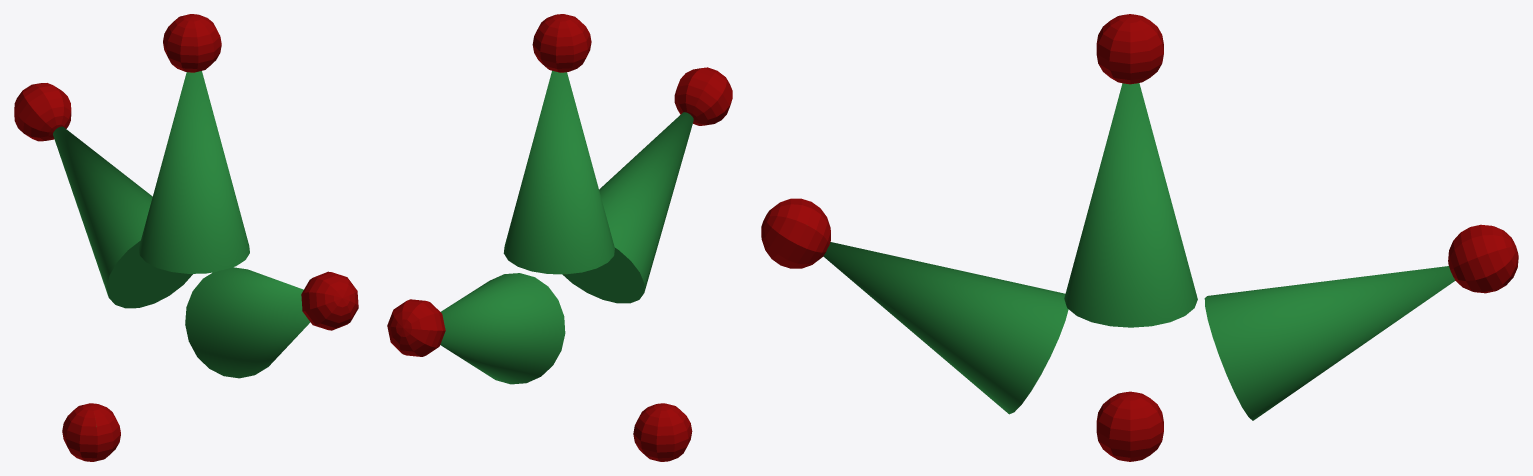
File: clown.fbx
3 renders of one model, left to right at view 1: azimuth 30°, elevation 25°; view 2: azimuth 150°, elevation 25°; view 3: azimuth 270°, elevation 25°, orthographic. The views are drawn at different scales.
Parts seen in each view (by area): view 1: pSphere3; view 2: pSphere3; view 3: pSphere3.
Part boxes in pixels (x1,y1,x2,y2): pSphere3: (14, 14, 358, 461); pSphere3: (387, 14, 732, 461); pSphere3: (761, 14, 1518, 461).
Size of the model in its own units: 1.6 by 3.57 by 4.89.
